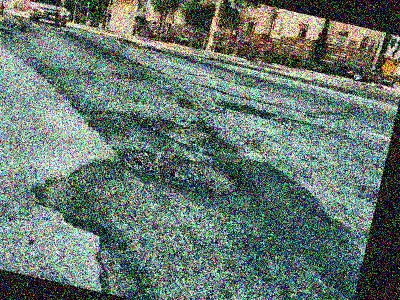pothole: (105, 138, 247, 204), (123, 107, 217, 150)
